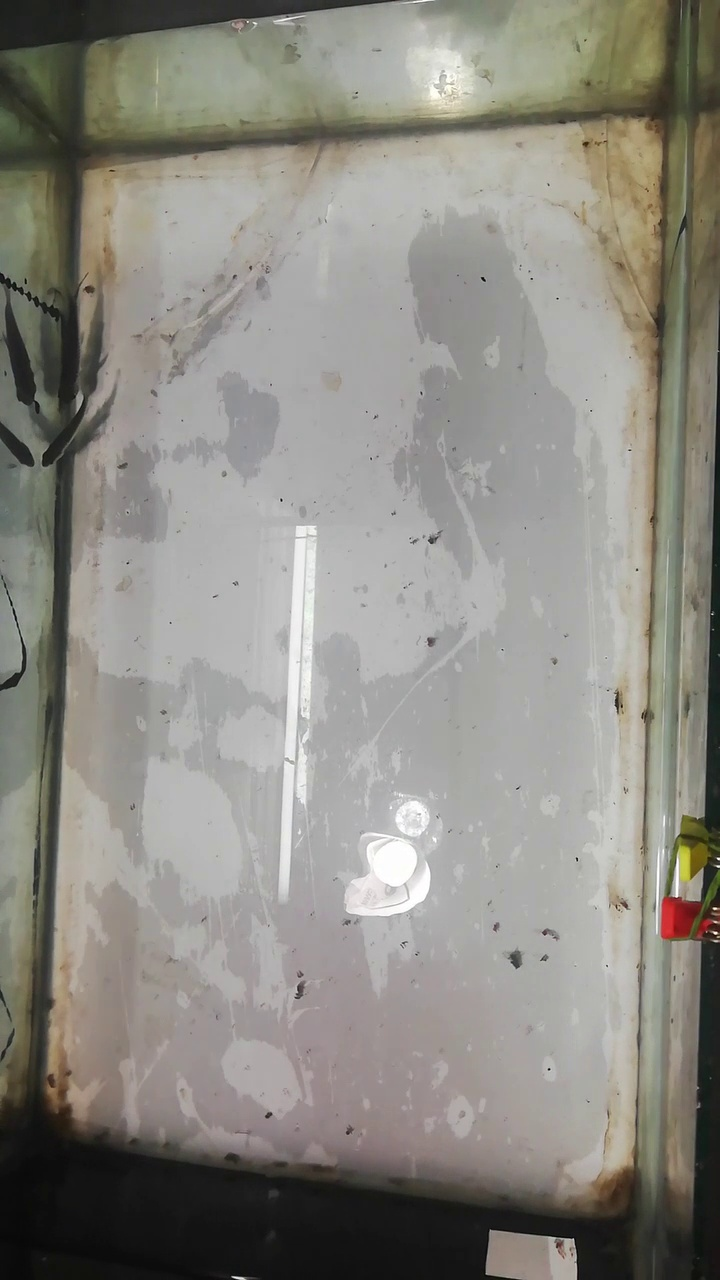fish1: (52, 305, 85, 405)
fish2: (38, 400, 89, 466)
